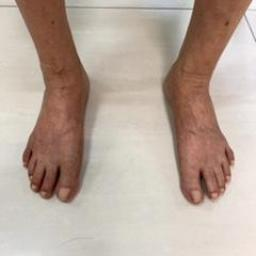Dorsal View -Both Feet-: (6, 20, 246, 224)
